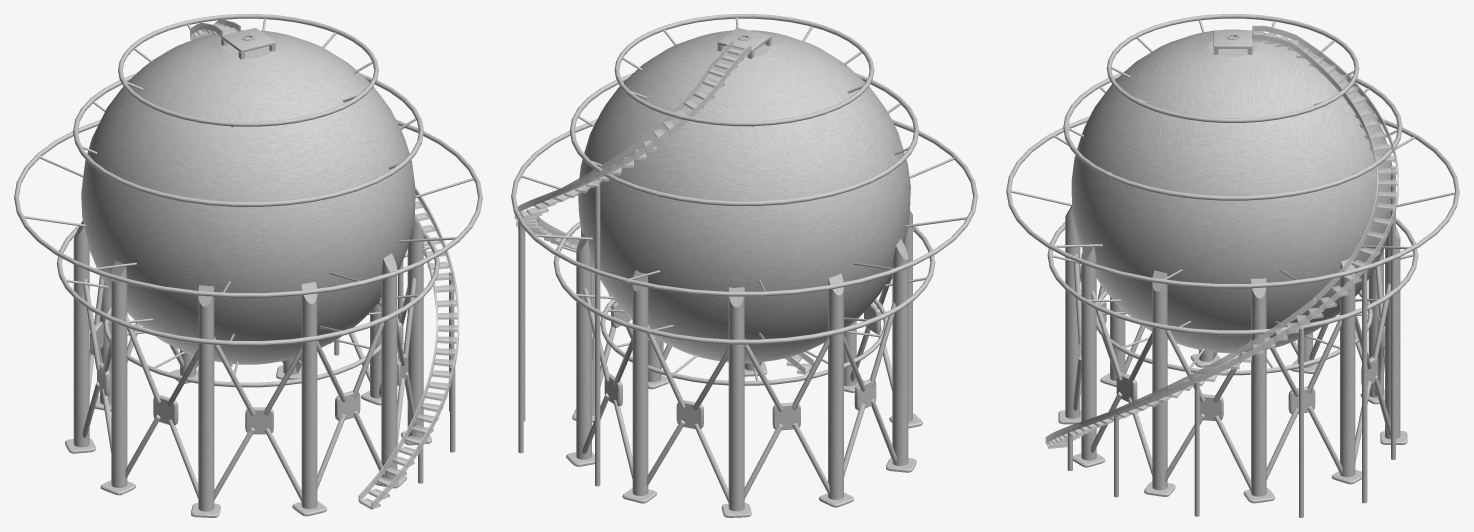
3 renders of one model, left to right at view 1: azimuth 30°, elevation 25°; view 2: azimuth 150°, elevation 25°; view 3: azimuth 270°, elevation 25°, orthographic. The views are drawn at different scales.
Visible parts, largest first — view 1: Sphere001, Torus001, Cylinder005, Cylinder004, 对象003, Cylinder006, Cylinder003, Cylinder007, Torus003, Torus002, 对象002, Torus004 (+11 smaller); view 2: Sphere001, Torus001, Cylinder008, Cylinder009, Cylinder006, Cylinder007, 对象002, Torus003, Cylinder010, Torus002, Torus004, 对象003 (+12 smaller); view 3: Sphere001, 对象002, 对象003, Torus001, Cylinder011, Cylinder002, Cylinder010, Torus003, Cylinder003, Torus002, Torus004, Cylinder004 (+15 smaller).
Boxes of the visible parts, left/top/right/bottom form: Sphere001: left=81, top=30, right=415, bottom=364; Torus001: left=14, top=119, right=482, bottom=297; Cylinder005: left=198, top=285, right=214, bottom=511; Cylinder004: left=301, top=282, right=317, bottom=509; 对象003: left=191, top=23, right=457, bottom=509; Cylinder006: left=111, top=261, right=127, bottom=487; Cylinder003: left=381, top=253, right=397, bottom=480; Cylinder007: left=73, top=220, right=89, bottom=447; Torus003: left=118, top=14, right=378, bottom=126; Torus002: left=73, top=73, right=423, bottom=206; 对象002: left=190, top=19, right=459, bottom=509; Torus004: left=56, top=226, right=440, bottom=345; Sphere001: left=578, top=30, right=910, bottom=363; Torus001: left=511, top=119, right=977, bottom=296; Cylinder008: left=728, top=287, right=744, bottom=511; Cylinder009: left=632, top=270, right=648, bottom=495; Cylinder006: left=892, top=239, right=908, bottom=465; Cylinder007: left=828, top=274, right=843, bottom=499; 对象002: left=514, top=40, right=813, bottom=374; Torus003: left=614, top=14, right=874, bottom=126; Cylinder010: left=576, top=233, right=591, bottom=459; Torus002: left=569, top=73, right=919, bottom=205; Torus004: left=553, top=221, right=935, bottom=344; 对象003: left=516, top=47, right=812, bottom=374; Sphere001: left=1071, top=29, right=1392, bottom=353; 对象002: left=1045, top=25, right=1398, bottom=443; 对象003: left=1046, top=31, right=1397, bottom=448; Torus001: left=1006, top=116, right=1459, bottom=288; Cylinder011: left=1251, top=278, right=1266, bottom=496; Cylinder002: left=1152, top=270, right=1167, bottom=490; Cylinder010: left=1340, top=258, right=1355, bottom=477; Torus003: left=1106, top=14, right=1359, bottom=122; Cylinder003: left=1081, top=239, right=1096, bottom=460; Torus002: left=1063, top=71, right=1402, bottom=200; Torus004: left=1047, top=218, right=1418, bottom=335; Cylinder004: left=1065, top=206, right=1080, bottom=418.
Bounding box in the file's own units: 176 × 171 × 176.
Materials: 1 (1 with a texture image).
